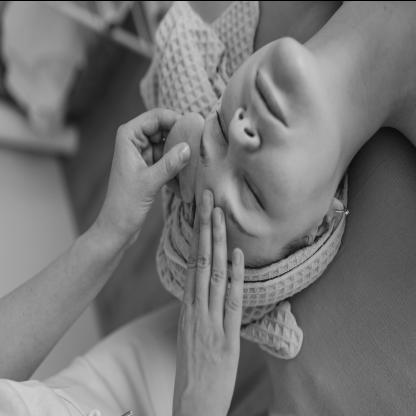Eye: (236, 172, 274, 221), (208, 114, 232, 158)
Mouth: (252, 70, 288, 132)
Nose: (226, 106, 268, 163)
